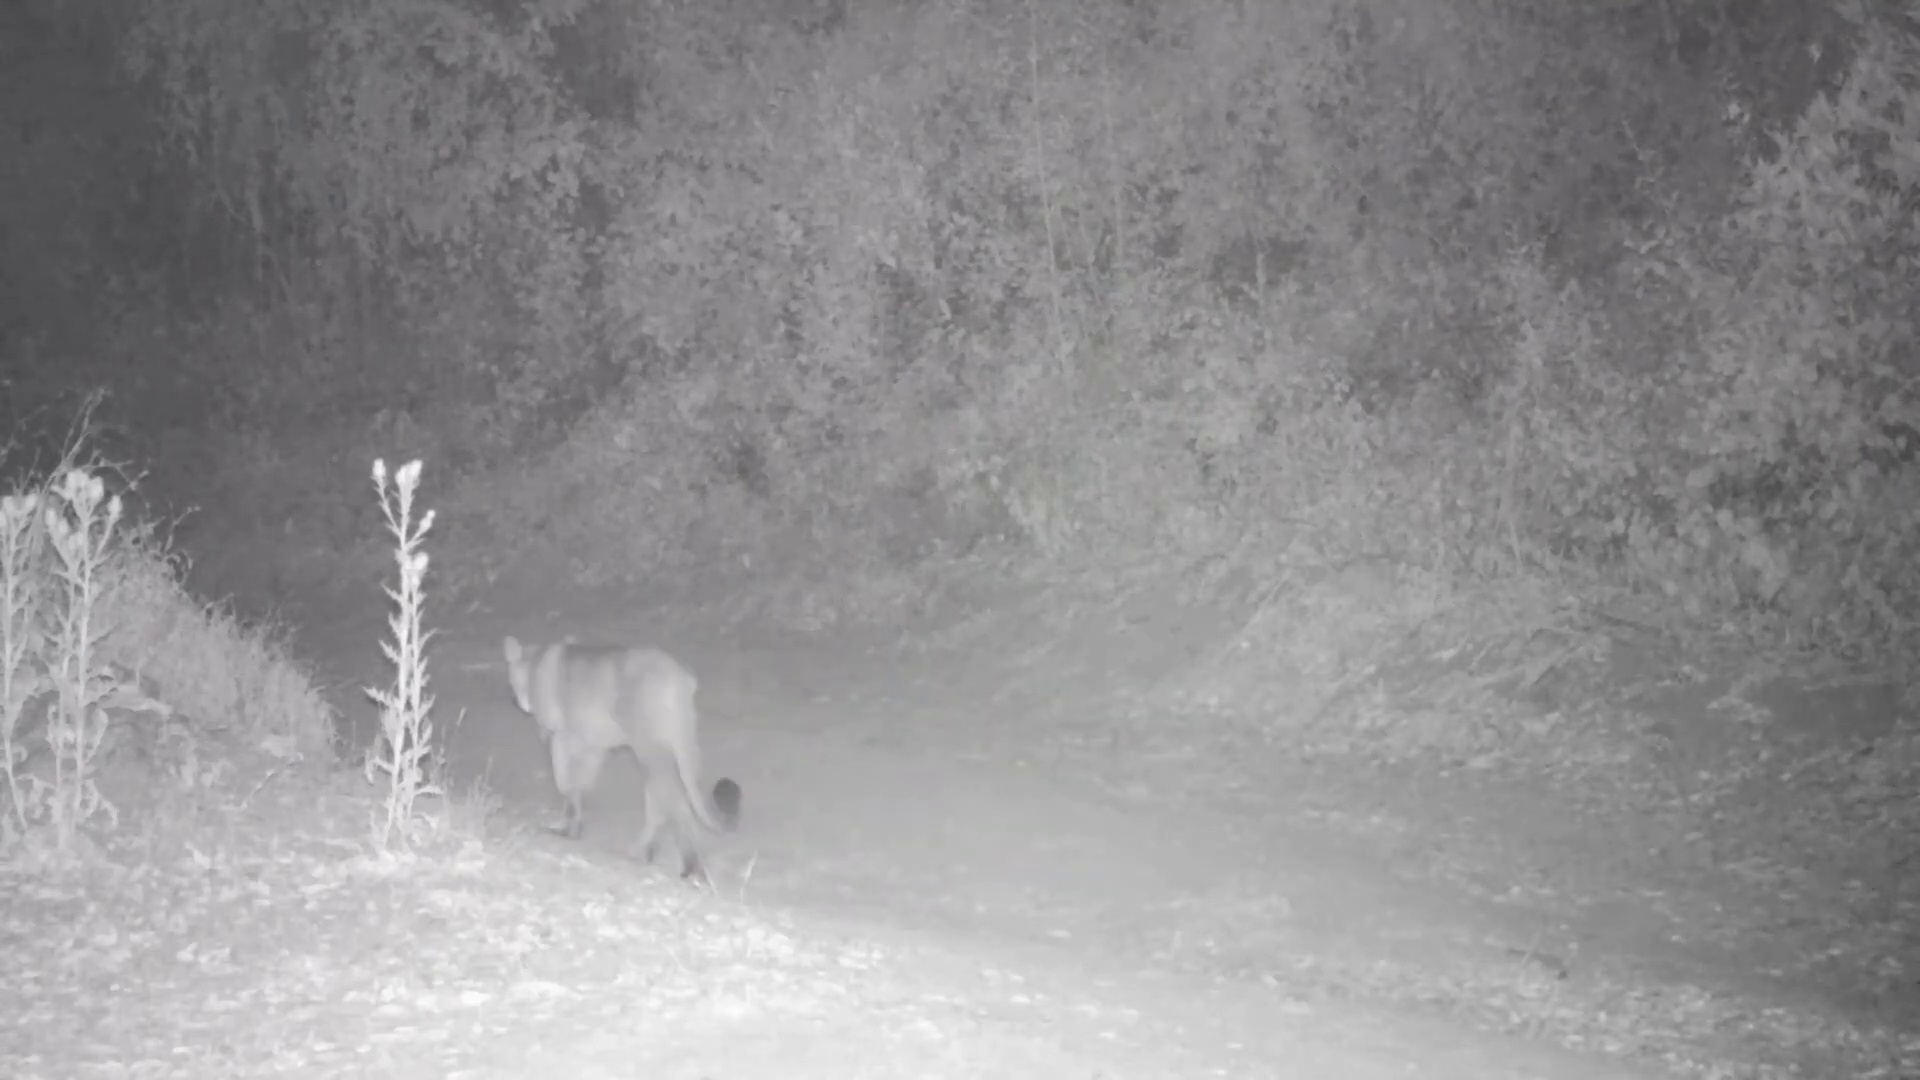Lion: (501, 632, 745, 887)
